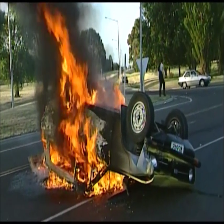fire_h: (41, 2, 107, 186), (89, 171, 124, 196), (46, 170, 74, 191)
fire_l: (112, 84, 126, 109), (37, 154, 49, 171), (40, 128, 47, 151)
